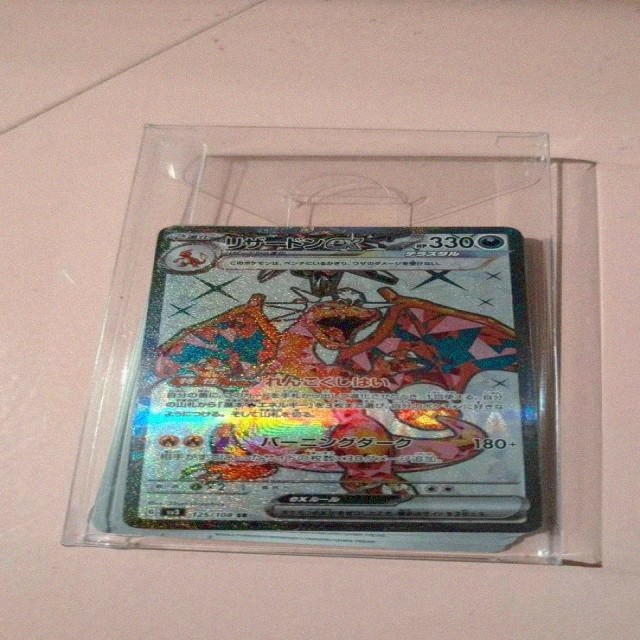card: (122, 225, 545, 533)
